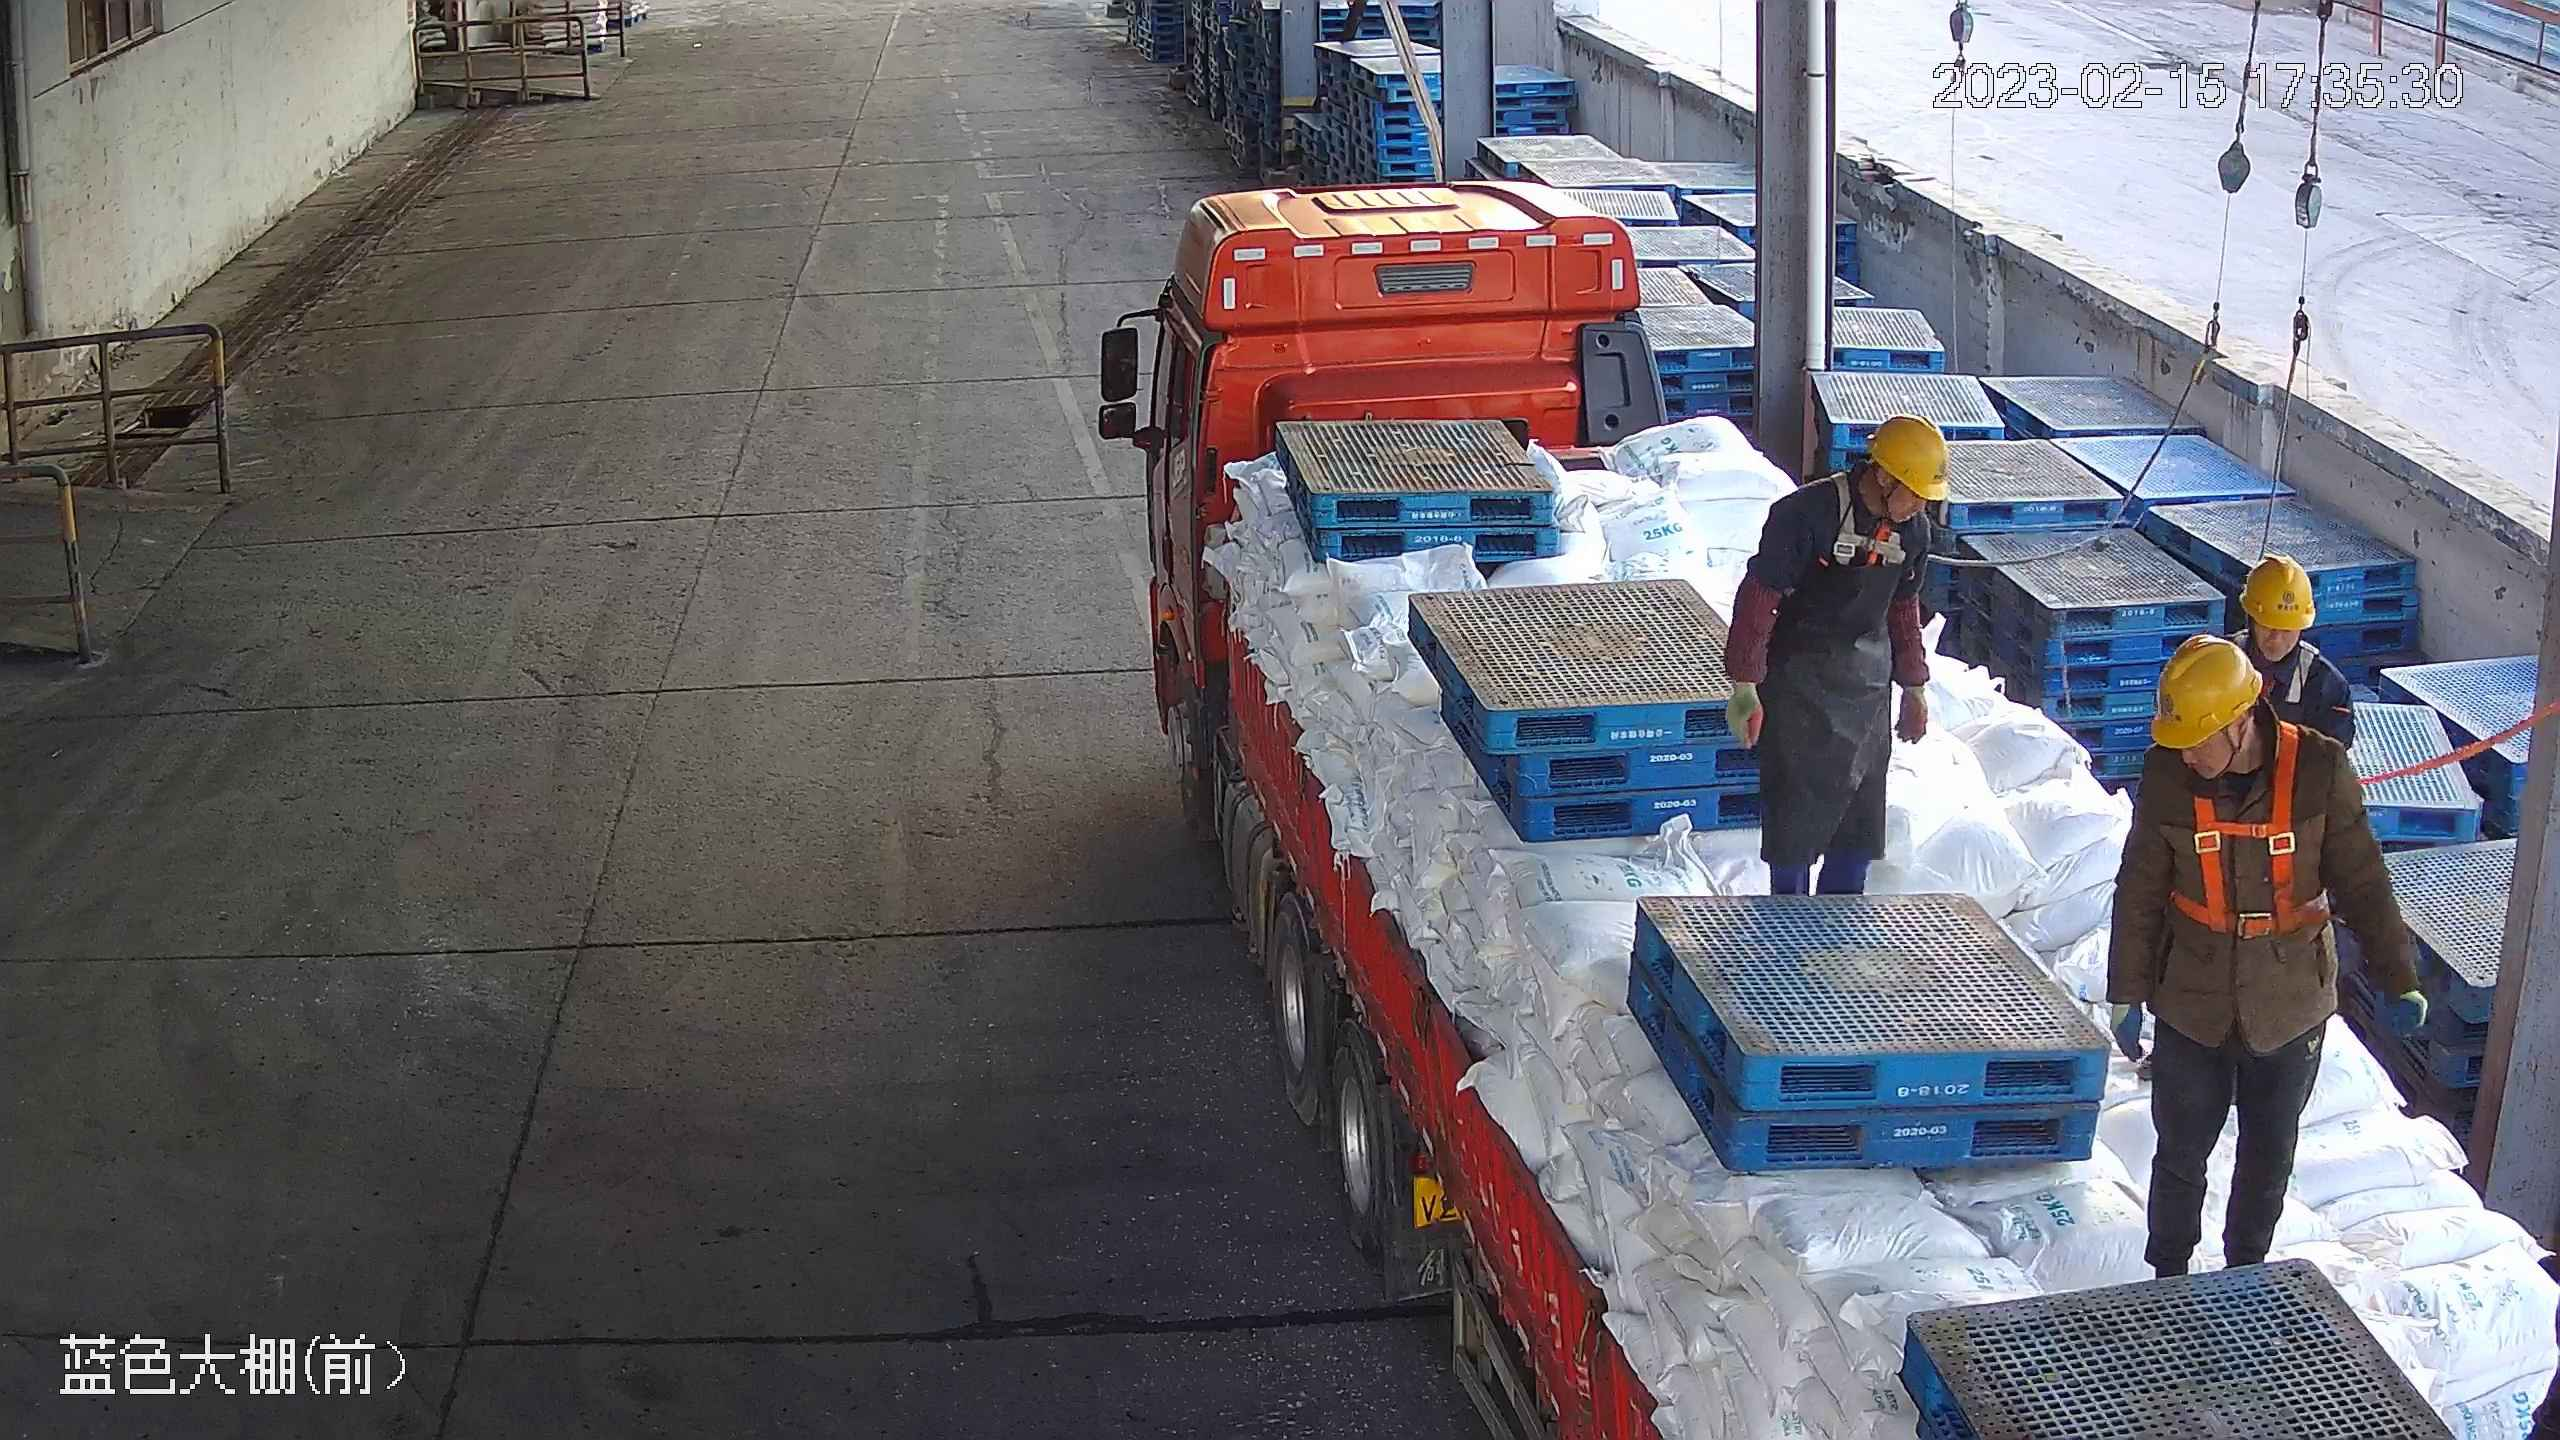belt: (2162, 721, 2376, 941), (1820, 472, 1919, 579), (2233, 625, 2318, 699)
head: (2135, 632, 2357, 795), (1751, 414, 1955, 563)
helmet: (2148, 635, 2262, 748), (1866, 414, 1950, 502), (2239, 552, 2316, 632)
people: (2106, 632, 2429, 1280), (1720, 414, 1956, 905)
truck: (1141, 178, 2560, 1440)
